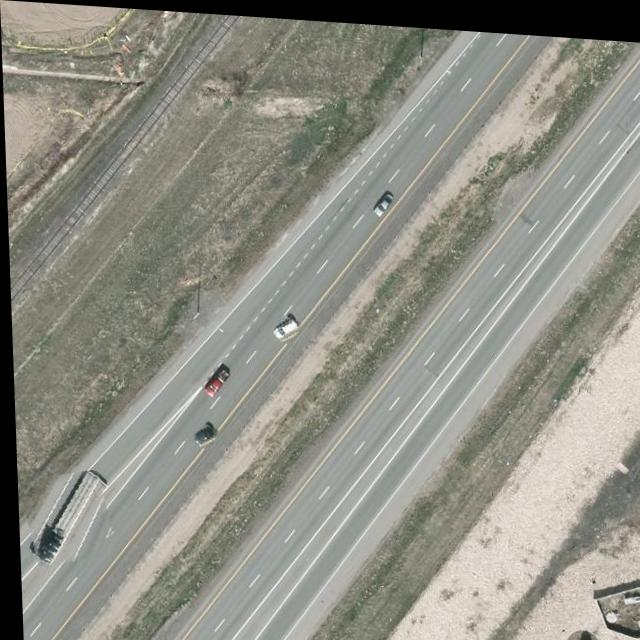vehicle: (18, 469, 110, 566), (268, 311, 298, 342), (200, 364, 229, 396), (189, 420, 214, 448), (371, 187, 394, 213)
